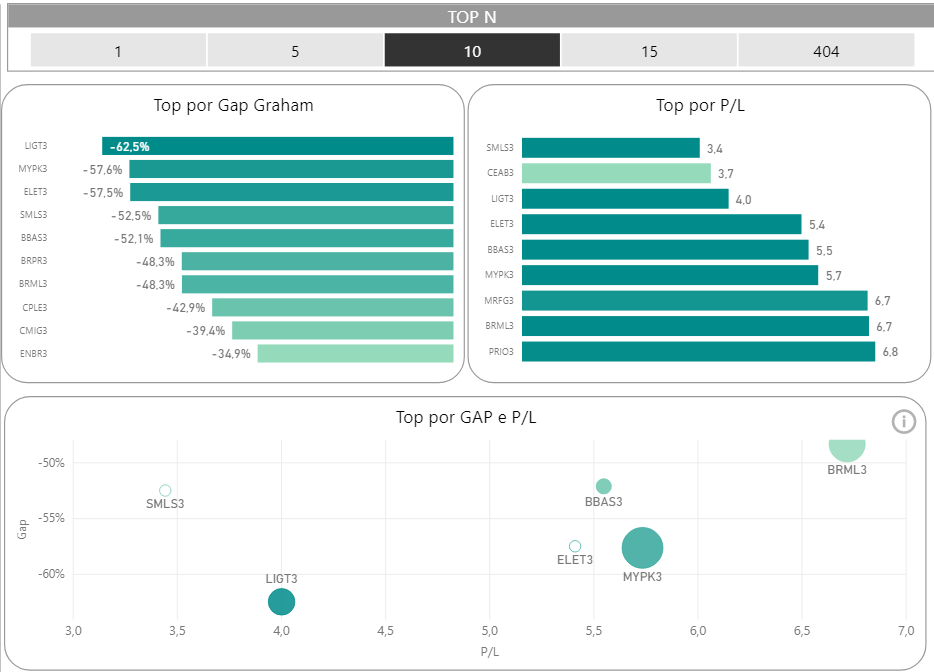

Layout of this report page (visuals, bound fields, positions):
{"tool":"powerbi","page":{"name":"Gap - P/L","canvas":[1280,2000],"ordinal":0},"visuals":[{"type":"card","title":"Qtde Ativos","fields":{"Values":["Geral.Código"]},"box":[0,97.6,200.6,256],"z":0},{"type":"clusteredBarChart","title":"Top por Gap Graham","fields":{"Category":["Geral.Código"],"Y":["Geral.Gap"]},"box":[214.2,476.4,531.2,344.4],"z":1000},{"type":"image","box":[0,0,1280,84],"z":2000},{"type":"slicer","title":"TOP N","fields":{"Values":["Top N.Top N"]},"box":[216.4,385.3,1064.1,78.8],"z":3000},{"type":"clusteredBarChart","title":"Top por P/L","fields":{"Category":["Geral.Código"],"Y":["Geral.P/L"]},"box":[748.8,476.4,531.2,344.4],"z":4000},{"type":"slicer","title":"Setor","fields":{"Values":["Geral.Setor"]},"box":[7.9,1728.7,188.7,76.5],"z":5000},{"type":"slicer","title":"Segmento","fields":{"Values":["Geral.Segmento"]},"box":[6.6,1844.8,187.4,76.5],"z":6000},{"type":"slicer","title":"Estrelas","fields":{"Values":["Geral.Estrelas"]},"box":[9.2,1022.7,186.1,77.9],"z":7000},{"type":"slicer","title":"Lucros Constantes","fields":{"Values":["Geral.Lucros Constantes"]},"box":[9.2,1129.6,187.4,77.9],"z":8000},{"type":"basicShape","box":[195.3,376.1,23.8,1554.5],"z":9000},{"type":"scatterChart","title":"Top por GAP e P/L","fields":{"Category":["Geral.Código"],"X":["Geral.P/L"],"Y":["Geral.Gap"],"Size":["Geral.Taxa Cresc. Lucros"]},"box":[217.6,844.8,1055.5,315.3],"z":10000},{"type":"slicer","title":"Tipo","fields":{"Values":["Geral.Tipo"]},"box":[7.9,485.6,187.4,79.2],"z":11000},{"type":"slicer","title":"Governança","fields":{"Values":["Geral.Governança"]},"box":[9.2,1351.3,188.7,77.9],"z":12000},{"type":"textbox","box":[24,15.4,479.8,68.5],"z":13000},{"type":"slicer","title":"Dividendos Constantes","fields":{"Values":["Geral.Dividendos Constantes"]},"box":[7.9,1239.1,188.7,77.9],"z":14000},{"type":"slicer","title":"Código","fields":{"Values":["Geral.Código"]},"box":[6.6,1608.6,190,77.9],"z":15000},{"type":"lineChart","title":"Lucro 2018 - 2019 (Bi)","fields":{"Y":["Geral.Luc 2018 (Bi)","Geral.Luc 2019 (Bi)"],"Category":["Geral.Código"]},"box":[217.7,1574.3,1050.4,347.1],"z":16000},{"type":"clusteredColumnChart","title":"Taxa de Crescimento","fields":{"Category":["Geral.Código"],"Y":["Geral.Taxa Cresc. Lucros"]},"box":[220.4,1187.6,1050.4,362.9],"z":17000},{"type":"slicer","title":"Mês","fields":{"Values":["Geral.Mês"]},"box":[9.1,385,186.8,75.4],"z":18000},{"type":"slicer","title":"Score","fields":{"Values":["Geral.Score"]},"box":[6.6,1463.4,195.3,110.8],"z":19000},{"type":"actionButton","box":[1224.6,844.5,44.9,38.3],"z":20000},{"type":"actionButton","box":[1226.9,24,53.1,39.4],"z":21000},{"type":"treemap","title":"Valor de Mercado (Bi)","fields":{"Group":["Geral.Código"],"Values":["Geral.Valor Mercado (Bi)"]},"box":[211.1,97.7,1066.7,255.6],"z":22000},{"type":"slicer","title":"P/VPA","fields":{"Values":["Geral.P/VPA"]},"box":[6.6,882.8,195.3,114.8],"z":23000},{"type":"slicer","title":"Vol 21d","fields":{"Values":["Geral.Vol 21d"]},"box":[6.6,729.7,195.3,114.8],"z":24000},{"type":"textbox","box":[0,1969.5,1278.7,29.1],"z":25000},{"type":"slicer","title":"FreeFloat","fields":{"Values":["Geral.FreeFloat"]},"box":[5.3,591.2,196.6,112.2],"z":26000}]}

Visuals, with their boxes on the page's 1280x2000 design canvas (x1, y1, x2, y2). These are canvas units, not pixel positions in the 934x672 screenshot, which may show the page scaled, cropped or inside an application window:
"Qtde Ativos" card: [0,98,201,354]
"Top por Gap Graham" clusteredBarChart: [214,476,745,821]
image: [0,0,1280,84]
"TOP N" slicer: [216,385,1280,464]
"Top por P/L" clusteredBarChart: [749,476,1280,821]
"Setor" slicer: [8,1729,197,1805]
"Segmento" slicer: [7,1845,194,1921]
"Estrelas" slicer: [9,1023,195,1101]
"Lucros Constantes" slicer: [9,1130,197,1208]
basicShape: [195,376,219,1931]
"Top por GAP e P/L" scatterChart: [218,845,1273,1160]
"Tipo" slicer: [8,486,195,565]
"Governança" slicer: [9,1351,198,1429]
textbox: [24,15,504,84]
"Dividendos Constantes" slicer: [8,1239,197,1317]
"Código" slicer: [7,1609,197,1686]
"Lucro 2018 - 2019 (Bi)" lineChart: [218,1574,1268,1921]
"Taxa de Crescimento" clusteredColumnChart: [220,1188,1271,1550]
"Mês" slicer: [9,385,196,460]
"Score" slicer: [7,1463,202,1574]
actionButton: [1225,844,1270,883]
actionButton: [1227,24,1280,63]
"Valor de Mercado (Bi)" treemap: [211,98,1278,353]
"P/VPA" slicer: [7,883,202,998]
"Vol 21d" slicer: [7,730,202,844]
textbox: [0,1970,1279,1999]
"FreeFloat" slicer: [5,591,202,703]
